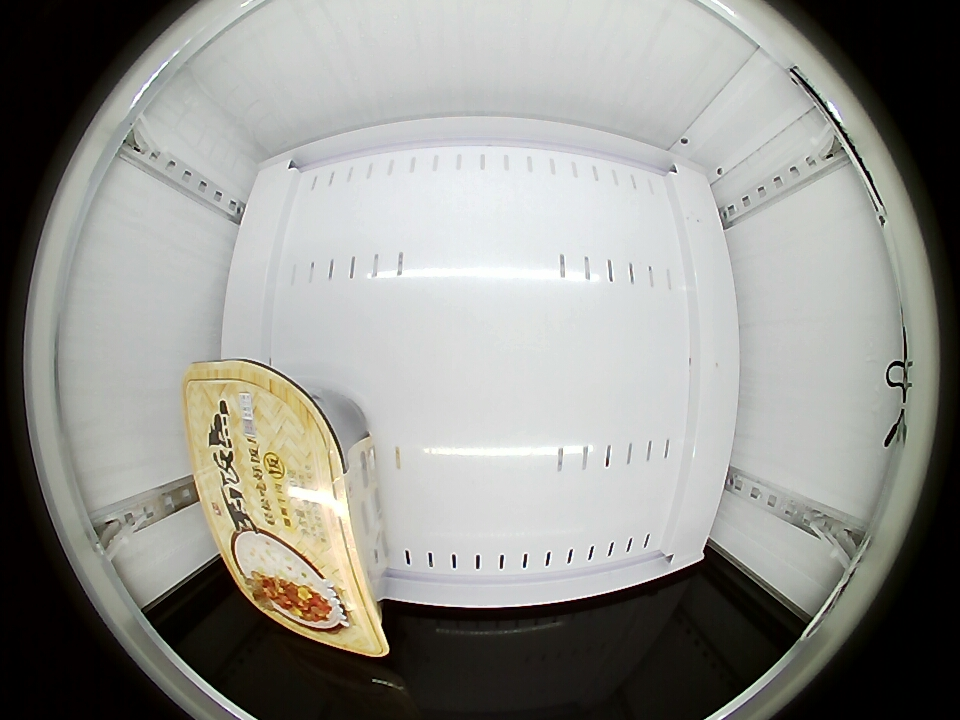daofandian2: (185, 360, 385, 658)
